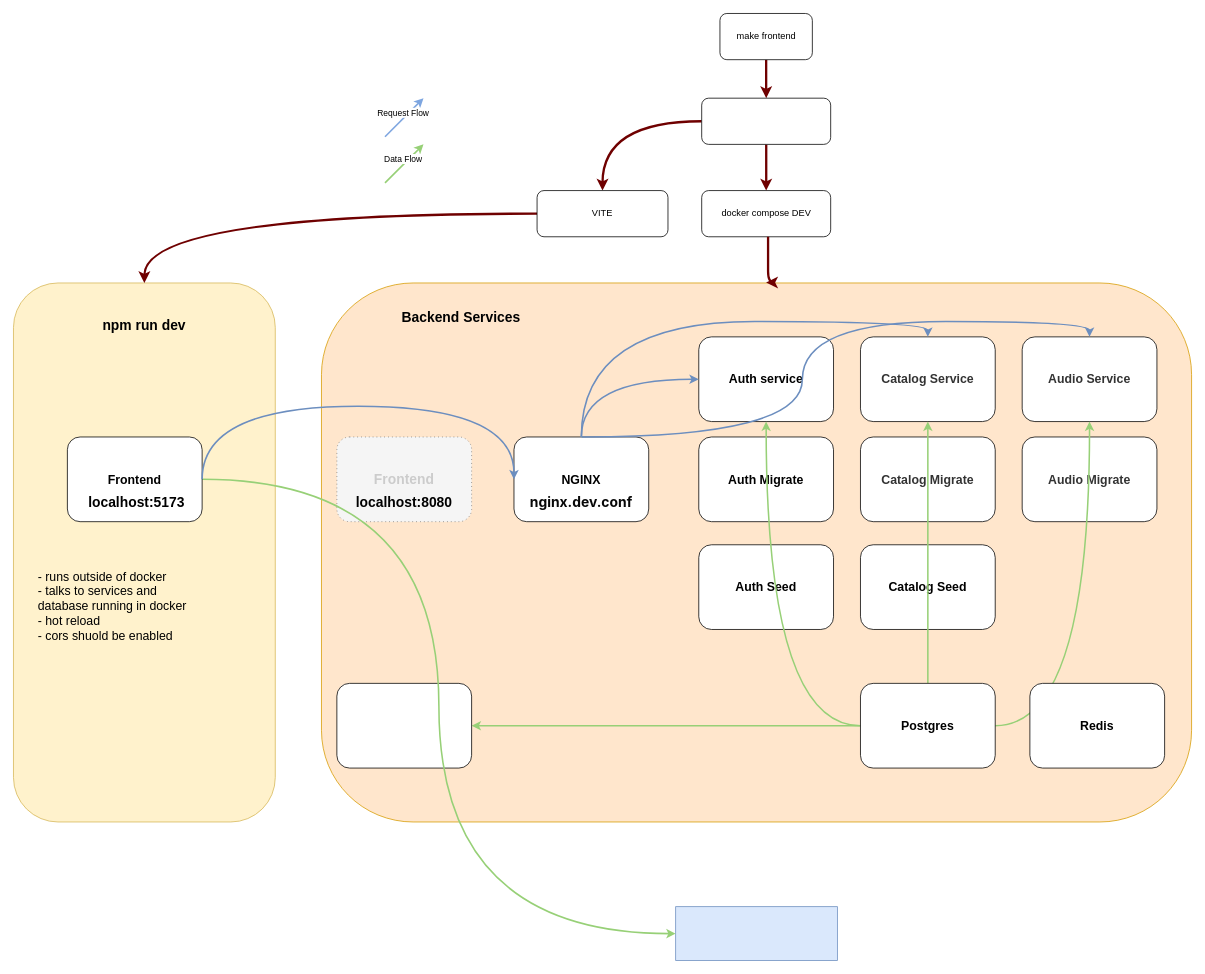
The diagram is 1205 pixels wide and 974 high, and some of its shapes have lost their labels. Each missing label, with the centre of its shape:
"Browser window" belongs at point 756,933.
"package.json" belongs at point 766,120.
"PgAdmin" belongs at point 404,725.
